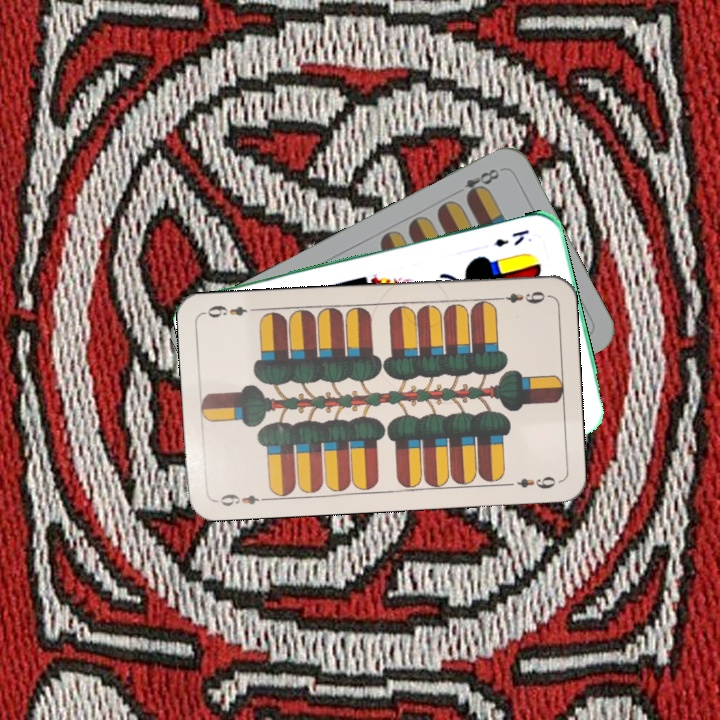E8: (460, 164, 502, 202)
E9: (211, 489, 271, 509), (491, 287, 550, 306)
EK: (490, 225, 532, 250)
